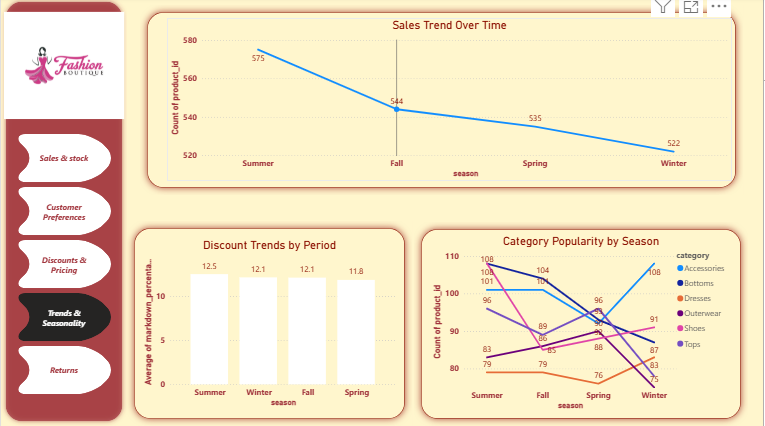

This screenshot's page, from the dashboard's own definition file:
{"tool":"powerbi","page":{"name":"Trends & Seasonality","canvas":[1280,720],"ordinal":3},"visuals":[{"type":"shape","box":[0,0,211.7,720.6],"z":0},{"type":"shape","box":[233.5,13.4,1012.9,319.2],"z":1000},{"type":"shape","box":[211.7,376.3,478.7,344.4],"z":2000},{"type":"lineChart","title":"Sales Trend Over Time","fields":{"Y":["CountNonNull(fashion_boutique_dataset.product_id)"],"Category":["fashion_boutique_dataset.season"]},"box":[278.8,35.3,949.1,273.8],"z":3000},{"type":"image","box":[0,0,211.7,230.1],"z":4000},{"type":"columnChart","title":"Discount Trends by Period","fields":{"Category":["fashion_boutique_dataset.season"],"Y":["Avg(fashion_boutique_dataset.markdown_percentage)"]},"box":[233.5,404.8,435.1,288.9],"z":5000},{"type":"pageNavigator","box":[16.8,230.1,178.1,440.1],"z":6000},{"type":"shape","box":[693.8,378,561,342.7],"z":7000},{"type":"lineChart","title":"Category Popularity by Season","fields":{"Category":["fashion_boutique_dataset.season"],"Y":["CountNonNull(fashion_boutique_dataset.product_id)"],"Series":["fashion_boutique_dataset.category"]},"box":[719,398.1,510.7,300.7],"z":8000}]}

Visuals, with their boxes in screenshot pixels (x1, y1, x2, y2), scaled from the page's 1280x720 canvas onto the 765x426 screenshot:
shape: (left=0, top=0, right=127, bottom=425)
shape: (left=140, top=8, right=745, bottom=197)
shape: (left=127, top=223, right=413, bottom=425)
"Sales Trend Over Time" lineChart: (left=167, top=21, right=734, bottom=183)
image: (left=0, top=0, right=127, bottom=136)
"Discount Trends by Period" columnChart: (left=140, top=240, right=400, bottom=410)
pageNavigator: (left=10, top=136, right=116, bottom=397)
shape: (left=415, top=224, right=750, bottom=425)
"Category Popularity by Season" lineChart: (left=430, top=236, right=735, bottom=413)
